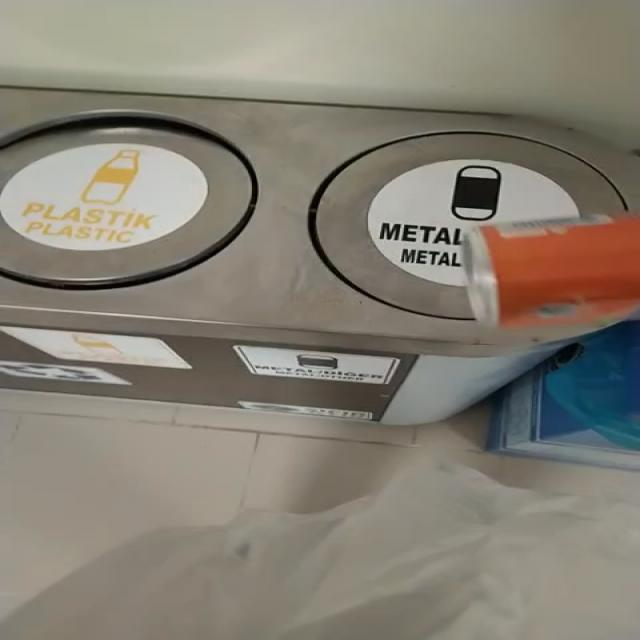bin: (0, 87, 637, 425)
metal: (467, 215, 640, 328)
